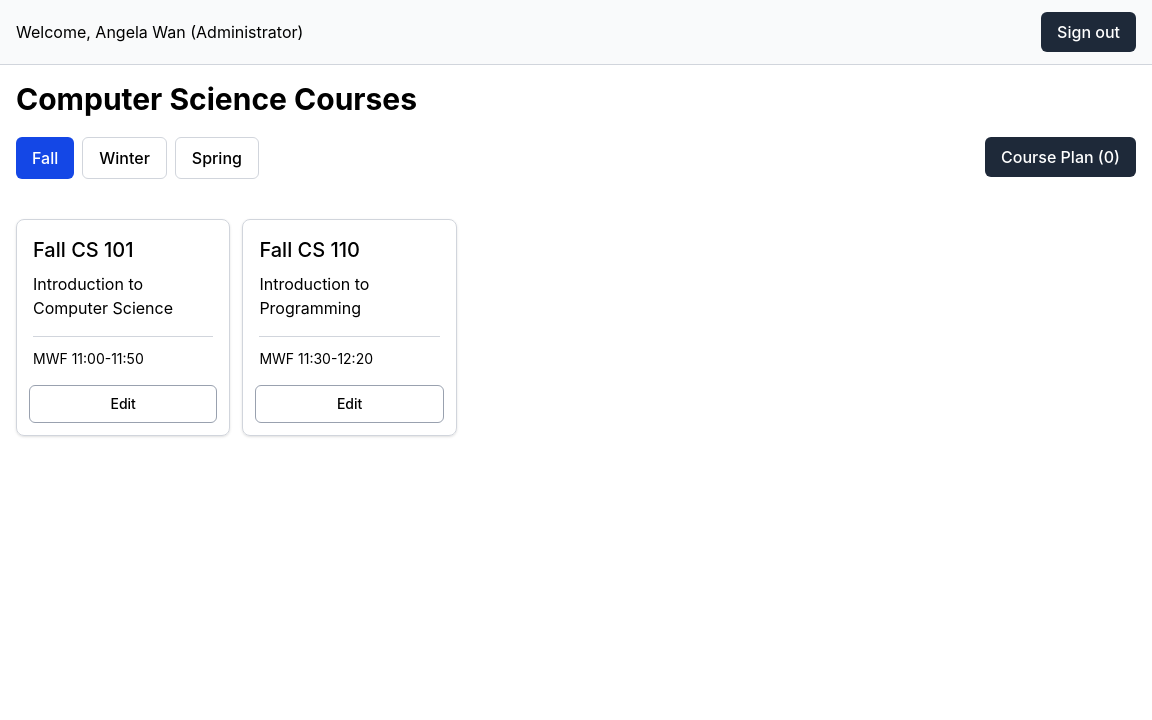
Test case: course form › loads a course into the form and cancels without changing it
The image size is (1152, 720).
Click the link with aria-label "Edit Fall CS 101".
click(123, 404)  # box [29,385,217,423]
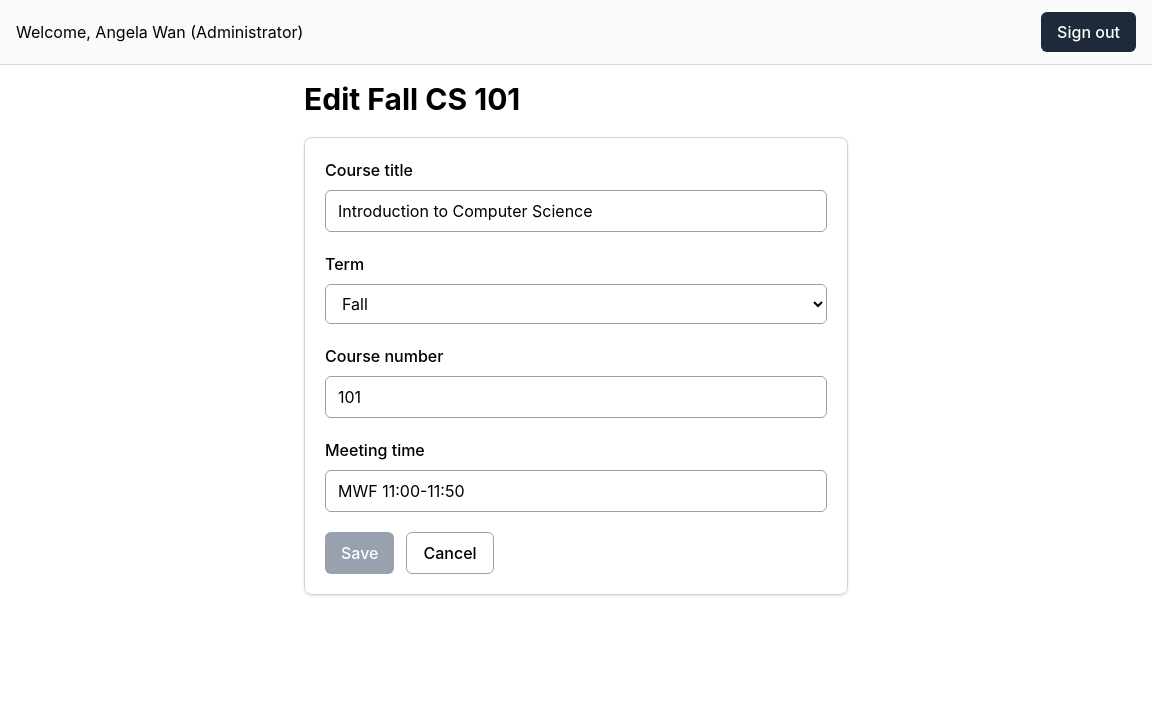
Check: the field labelled "Course title" holds "Introduction to Computer Science"
Check: the field labelled "Meeting time" holds "MWF 11:00-11:50", box [325,470,827,512]
Replace the text in the field labelled "Course title" with "Changed title" at (576, 211), box [325,190,827,232]
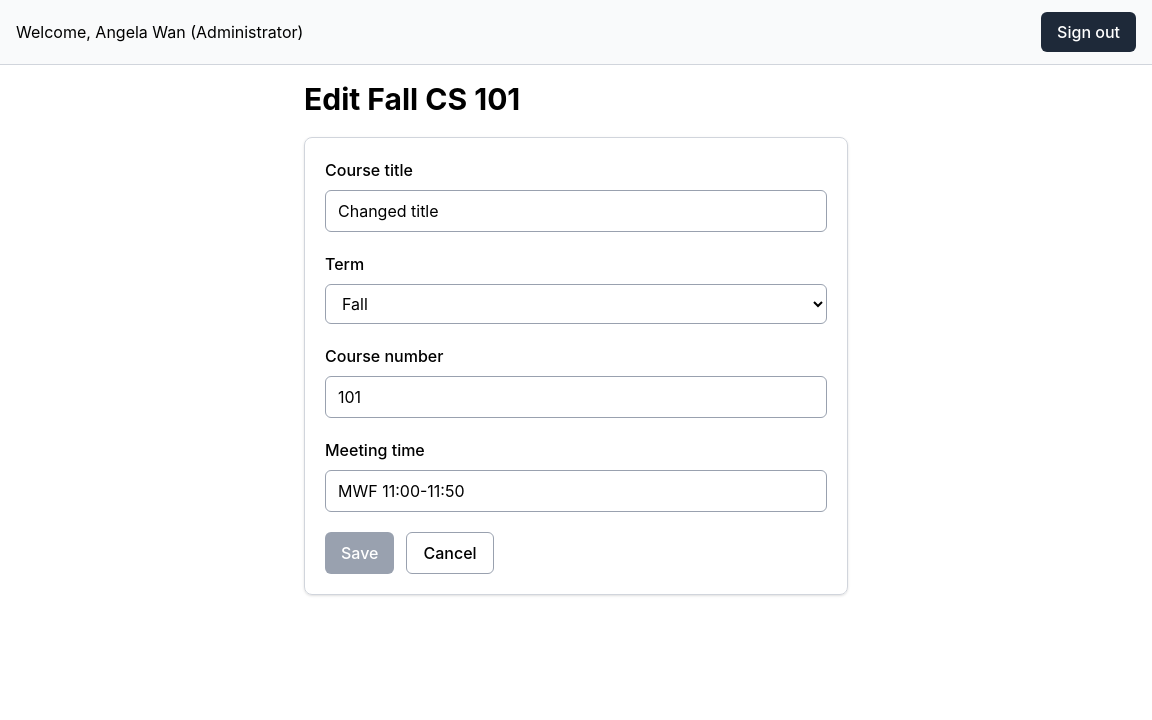
Click the button "Cancel".
click(450, 553)  # box [406,532,494,574]
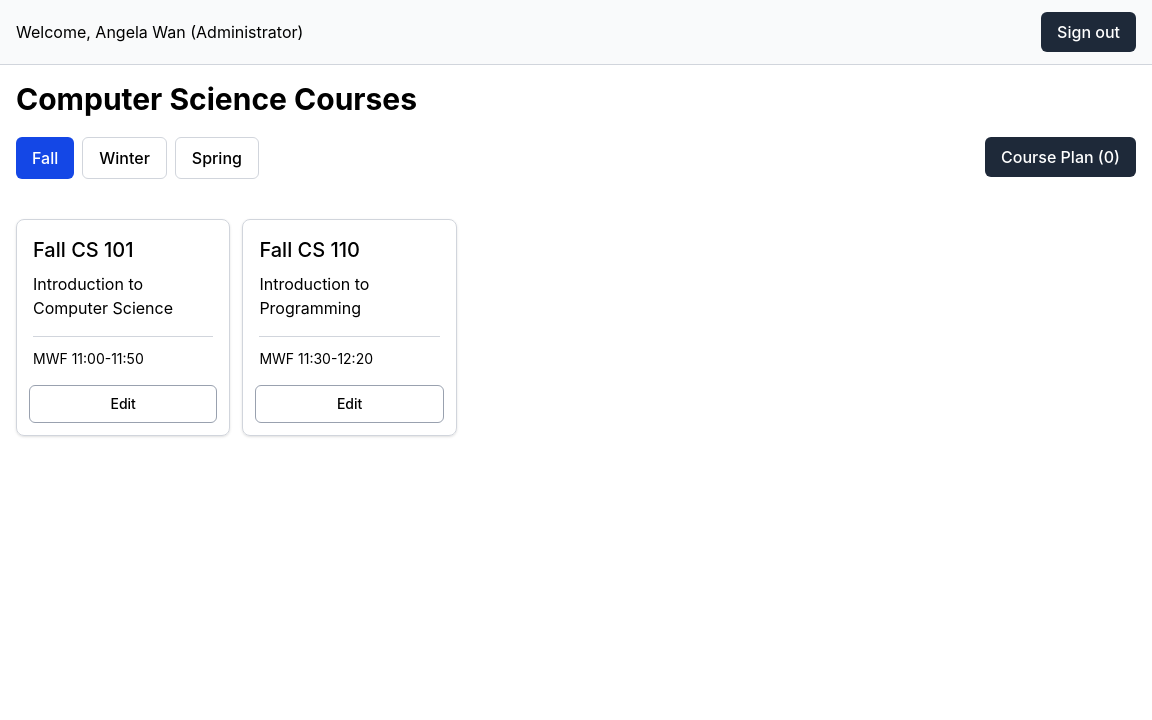
Check: the text "Introduction to Computer Science" is shown, box [33,274,173,318]
Check: the field "Changed title" is gone
